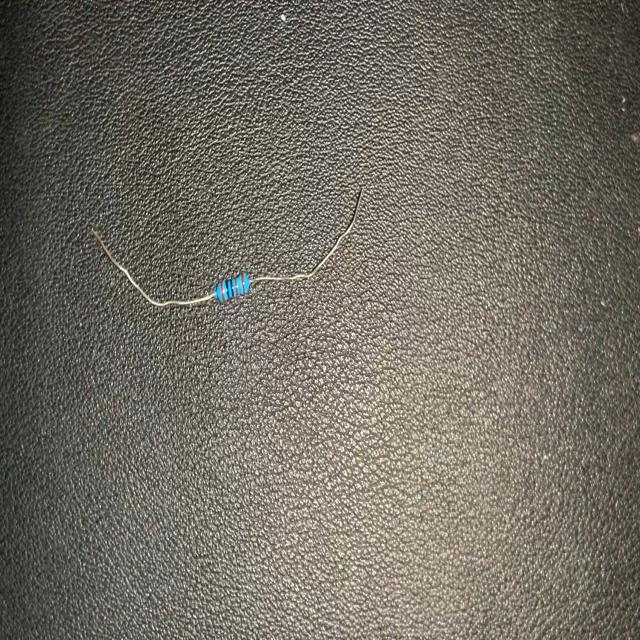resistor: (87, 185, 364, 314)
